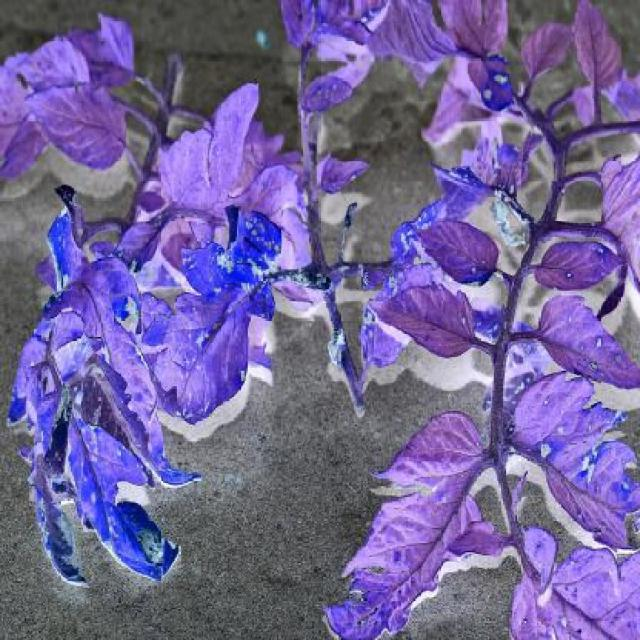Septoria leaf spot: (321, 423, 495, 640), (156, 221, 298, 418), (54, 384, 183, 580), (509, 377, 640, 551)
